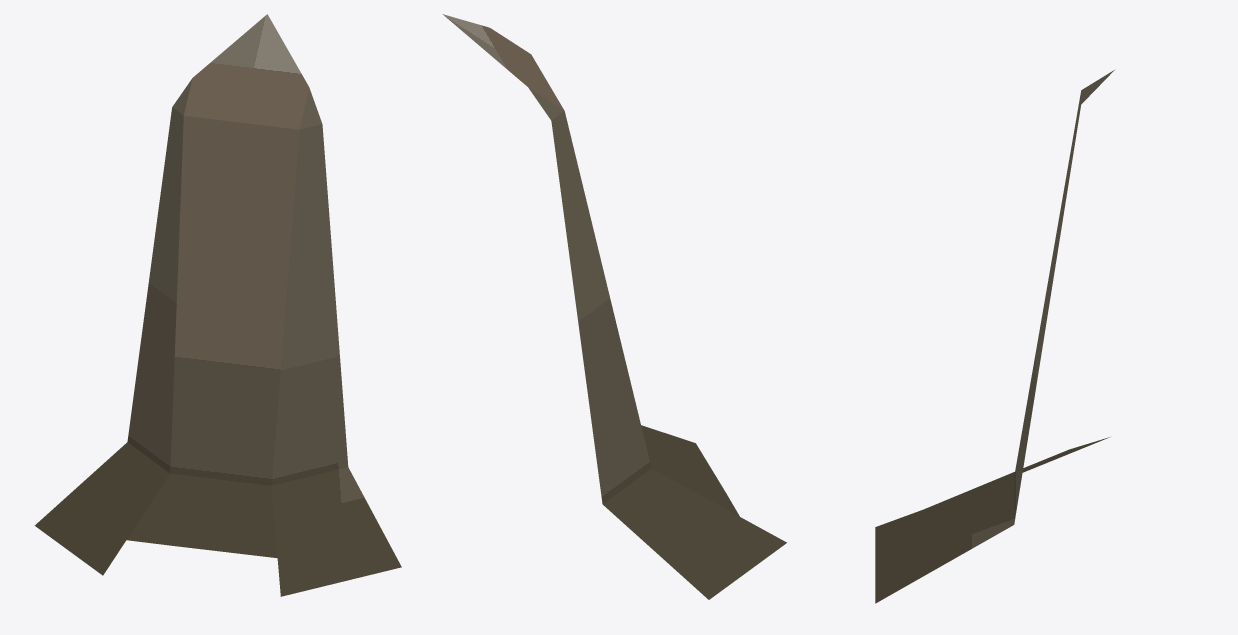
3 renders of one model, left to right at view 1: azimuth 30°, elevation 25°; view 2: azimuth 150°, elevation 25°; view 3: azimuth 270°, elevation 25°, orthographic. The views are drawn at different scales.
Bounding box in the file's own units: 0.293 × 0.5178 × 0.293.
Materials: 1 (1 with a texture image).
